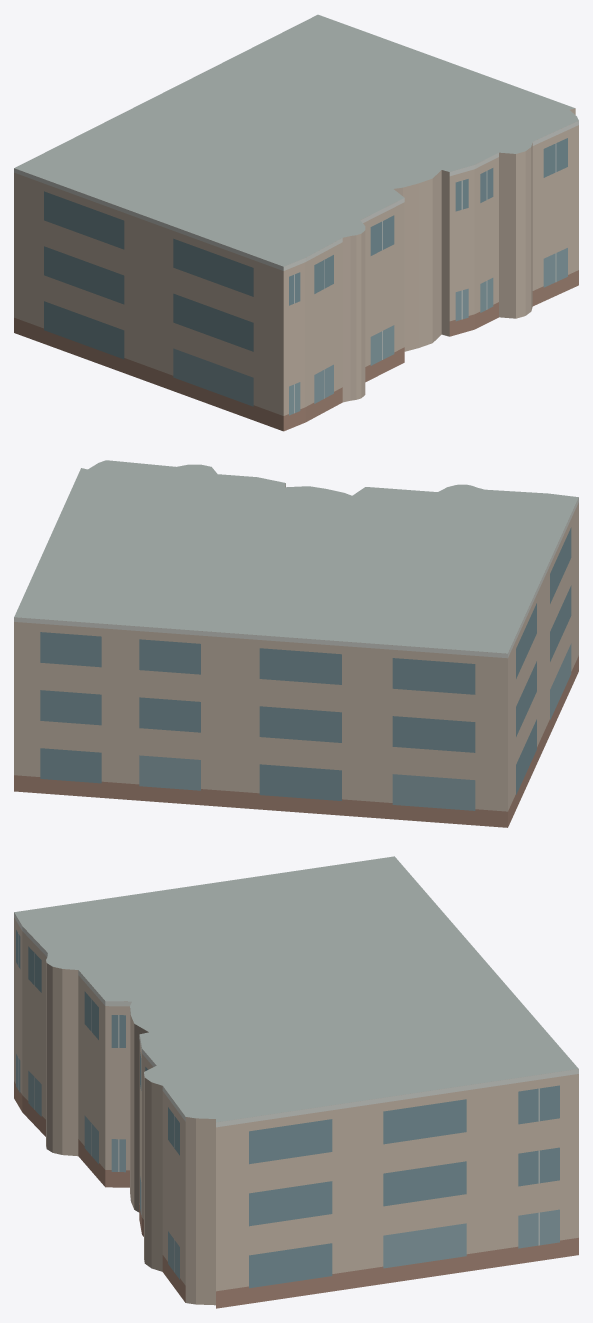
Rendered from survey-upis-32864808.glb.
3 renders of one model, top to bottom at view 1: azimuth 30°, elevation 25°; view 2: azimuth 150°, elevation 25°; view 3: azimuth 270°, elevation 25°, orthographic. The views are drawn at different scales.
Visible parts, largest first — view 1: survey-upis-32864808.tmp; view 2: survey-upis-32864808.tmp; view 3: survey-upis-32864808.tmp.
Part boxes in pixels (x1,y1,x2,y2): survey-upis-32864808.tmp: (14, 14, 578, 431); survey-upis-32864808.tmp: (14, 460, 578, 827); survey-upis-32864808.tmp: (14, 856, 578, 1308).
Size of the model in its own units: 28.06 by 9.15 by 25.17.
